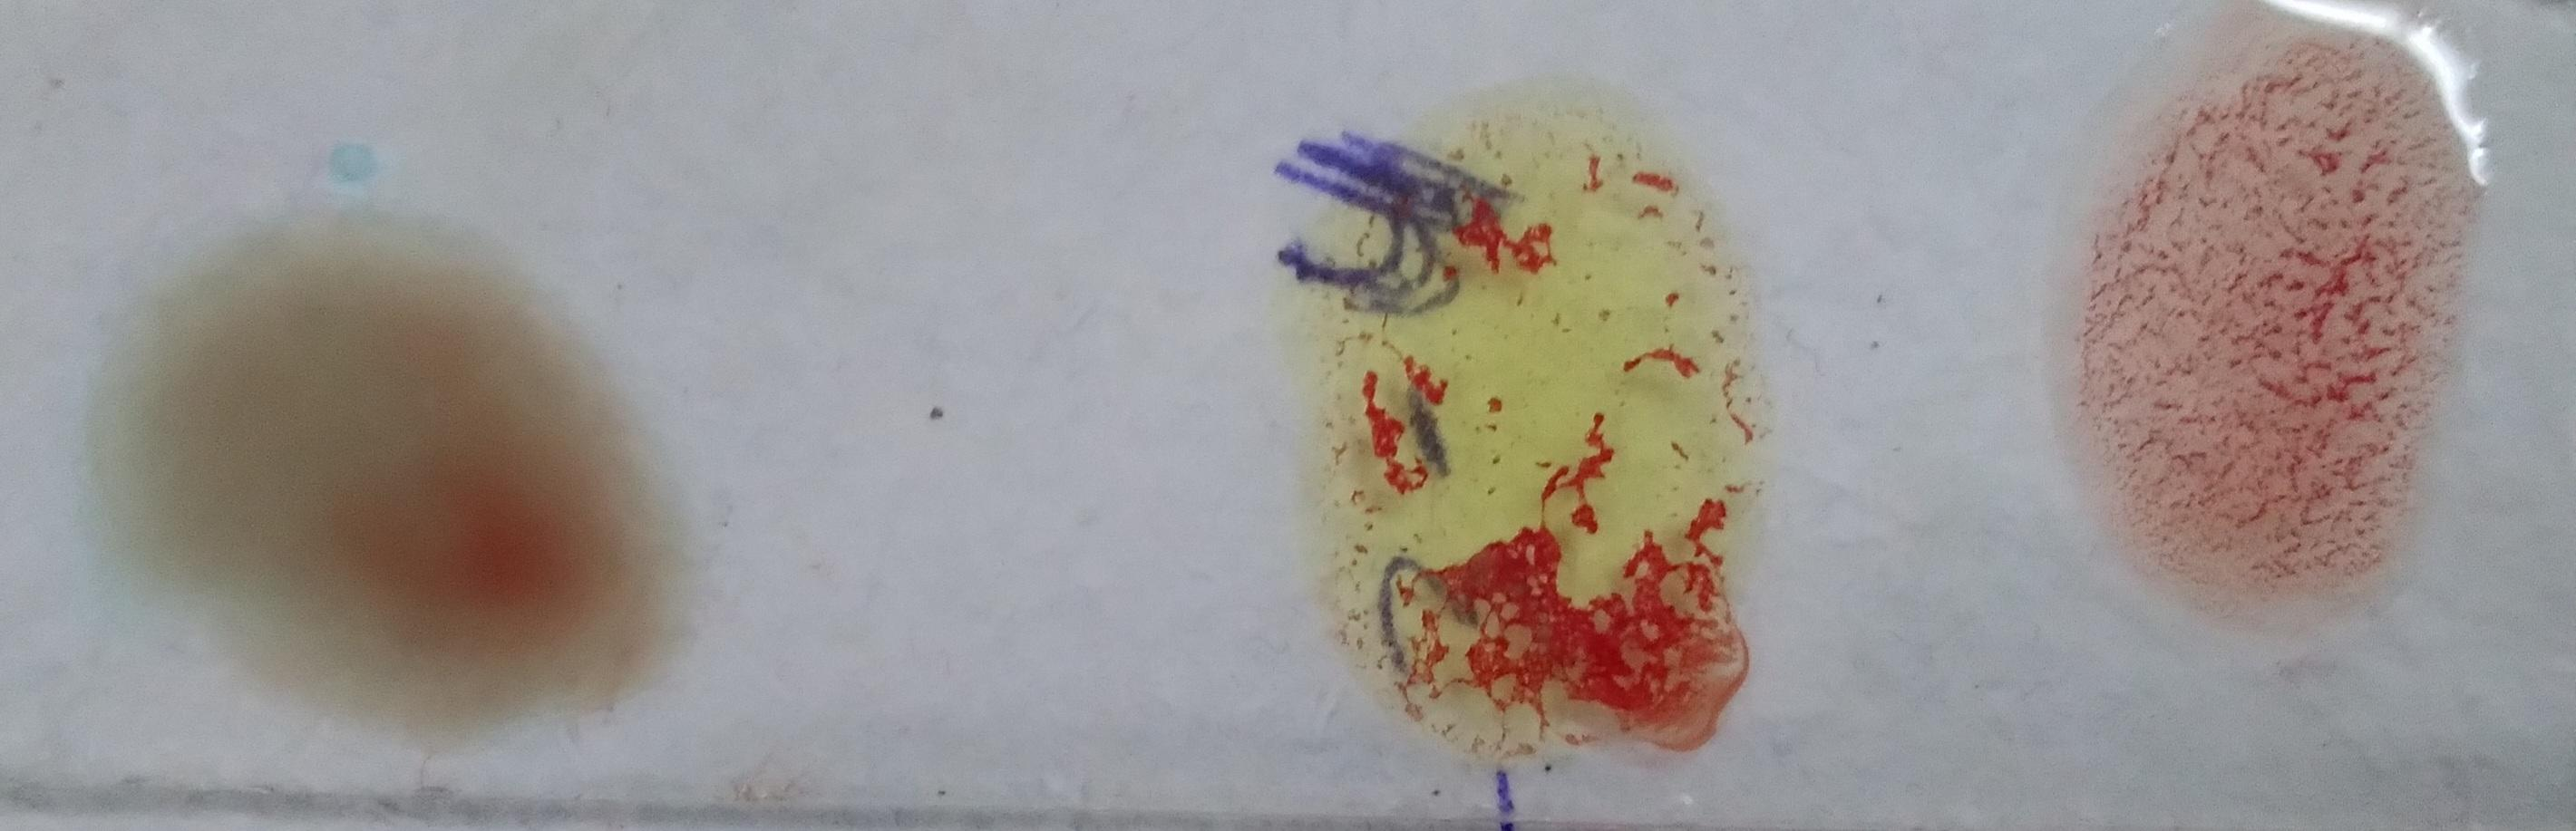B: (828, 61, 1224, 714)
D: (131, 227, 473, 772)
